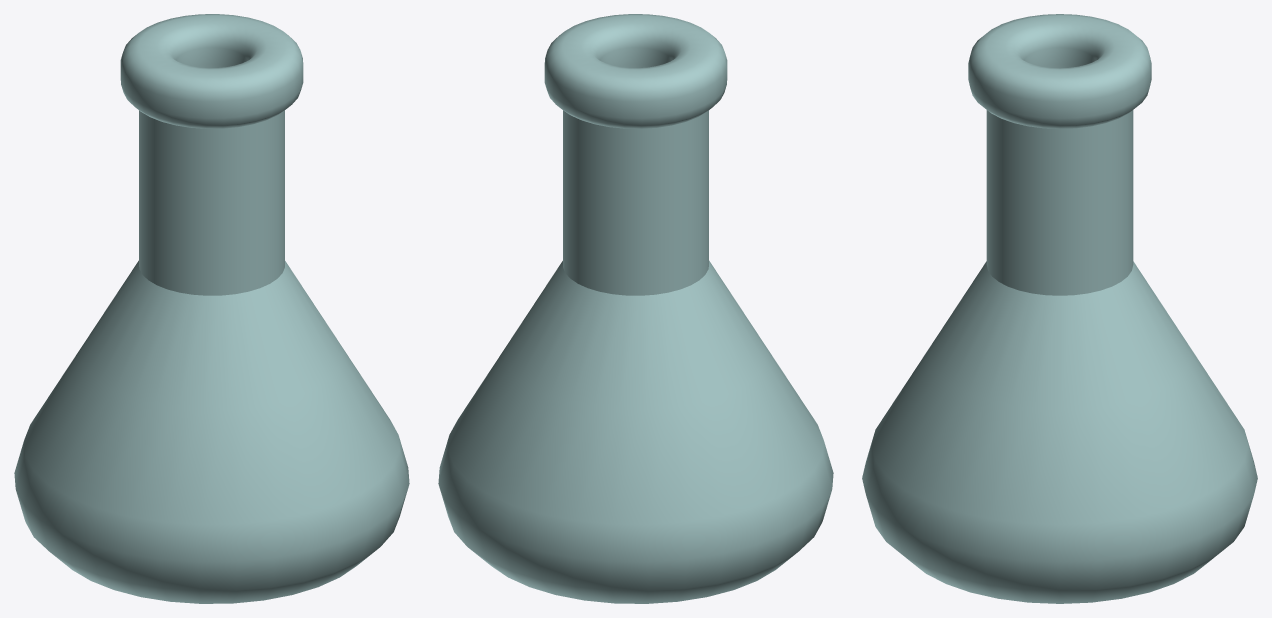
File: LastLuna_Model_Station_Flask_Erlenmeyer.fbx
3 views of the same model, side by side, from view 1: azimuth 30°, elevation 25°; view 2: azimuth 150°, elevation 25°; view 3: azimuth 270°, elevation 25° (orthographic).
Visible parts, largest first — view 1: Flask_Erlenmeyer001; view 2: Flask_Erlenmeyer001; view 3: Flask_Erlenmeyer001.
Part boxes in pixels (x1=…): Flask_Erlenmeyer001: x1=14, y1=14, x2=409, y2=603; Flask_Erlenmeyer001: x1=438, y1=14, x2=833, y2=603; Flask_Erlenmeyer001: x1=862, y1=14, x2=1257, y2=603.
Bounding box in the file's own units: 54.02 × 75 × 54.02.
